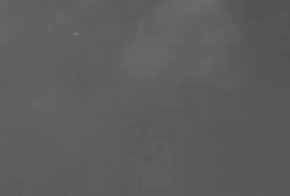Target: (75, 33, 77, 35)
